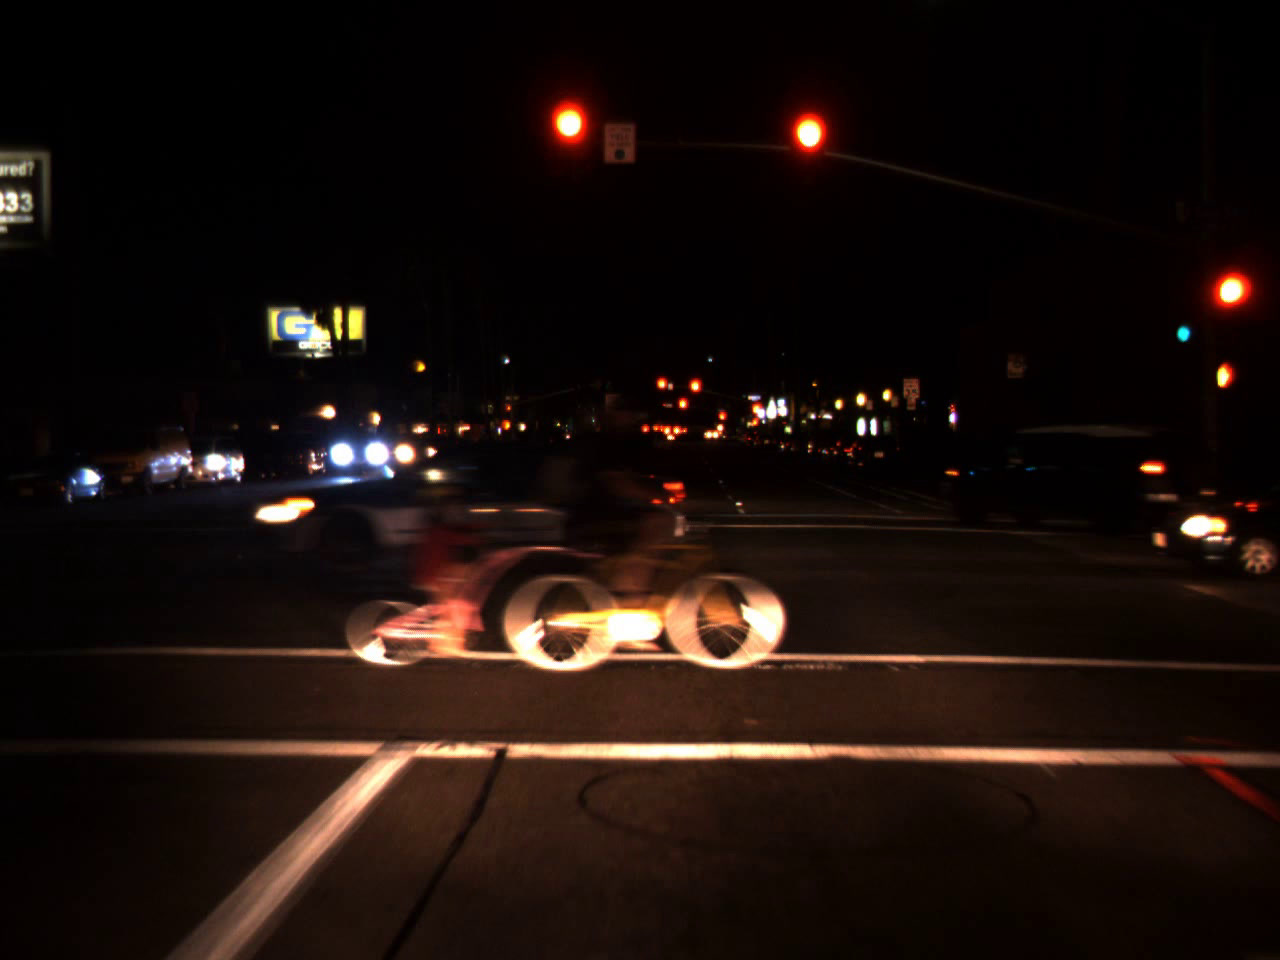stop: (1207, 272, 1250, 339), (790, 113, 827, 188), (552, 104, 588, 179), (688, 377, 701, 409), (655, 375, 668, 402), (676, 395, 689, 422), (750, 402, 763, 418), (717, 410, 727, 431), (503, 402, 512, 418)
